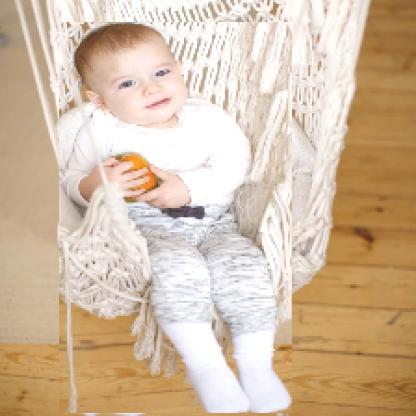child: (61, 23, 295, 415)
